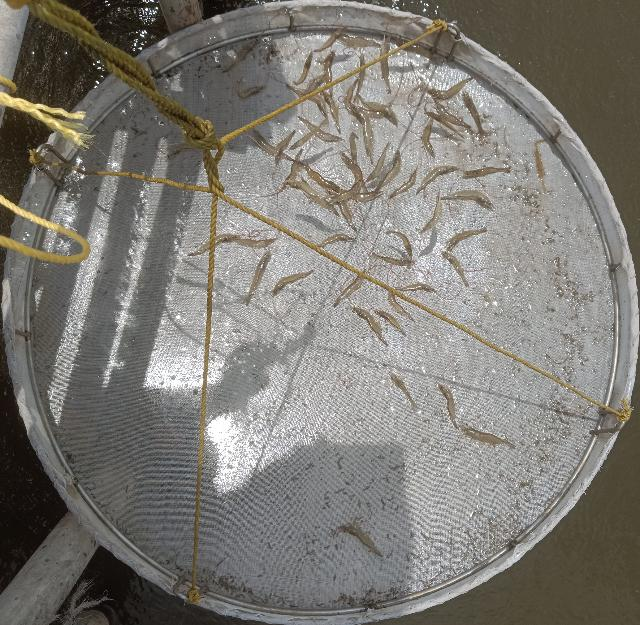shrimp: (330, 520, 383, 557), (187, 234, 275, 256), (243, 248, 271, 306), (286, 84, 328, 120), (351, 307, 388, 346), (222, 38, 260, 73), (461, 425, 516, 449), (358, 94, 398, 127), (297, 116, 344, 143), (289, 119, 328, 151), (416, 165, 458, 194), (442, 228, 487, 255), (374, 149, 402, 192), (425, 112, 467, 139), (441, 190, 494, 211), (272, 270, 313, 297), (389, 372, 418, 410), (463, 92, 486, 138), (428, 78, 472, 102), (365, 142, 391, 182), (441, 251, 469, 287), (319, 90, 341, 134), (334, 275, 364, 307), (313, 25, 347, 52), (420, 192, 442, 233), (438, 384, 458, 429), (389, 167, 417, 199), (248, 128, 278, 157), (373, 310, 406, 336), (437, 103, 471, 128), (282, 149, 303, 187), (385, 231, 413, 259), (273, 130, 295, 165), (388, 292, 414, 321), (380, 35, 392, 95), (294, 51, 313, 85), (337, 34, 381, 48), (353, 56, 366, 103), (317, 233, 355, 248), (461, 167, 511, 178), (372, 253, 412, 266), (324, 50, 335, 97), (422, 117, 434, 157), (395, 283, 437, 294), (237, 85, 265, 99)
